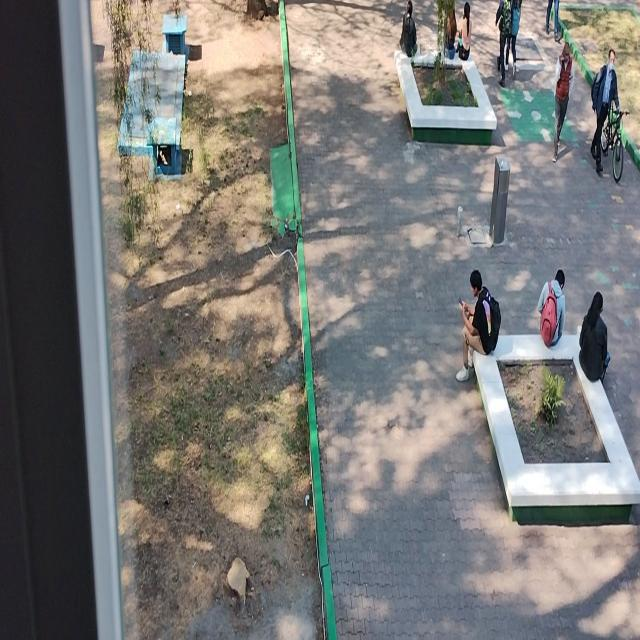adult: (455, 266, 492, 382), (590, 50, 618, 175), (552, 40, 574, 163), (580, 292, 610, 379), (537, 266, 565, 346), (494, 0, 519, 82), (455, 3, 473, 60), (402, 4, 418, 60), (442, 6, 458, 60)
